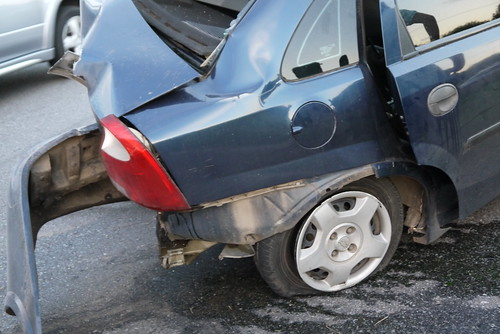car: (11, 1, 500, 328)
